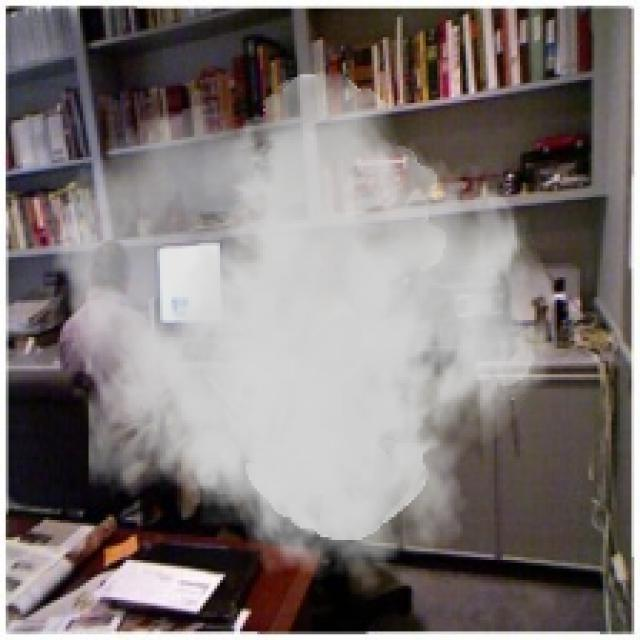Smoke: (43, 71, 560, 594)
